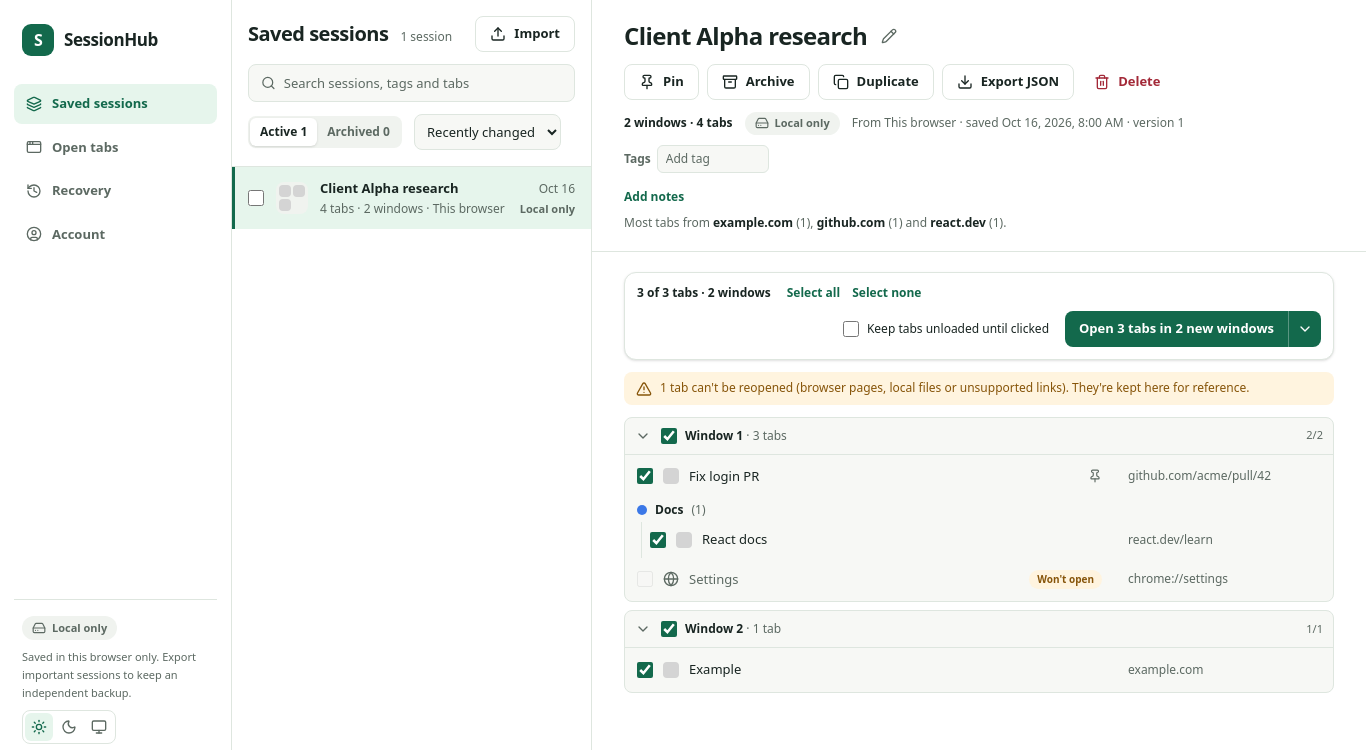
it: restore retry › reopens the last restore's summary from the inspector and retries from there
Click the button "Open 3 tabs in 2 new windows": click(1176, 329) 1065,311 -> 1288,347
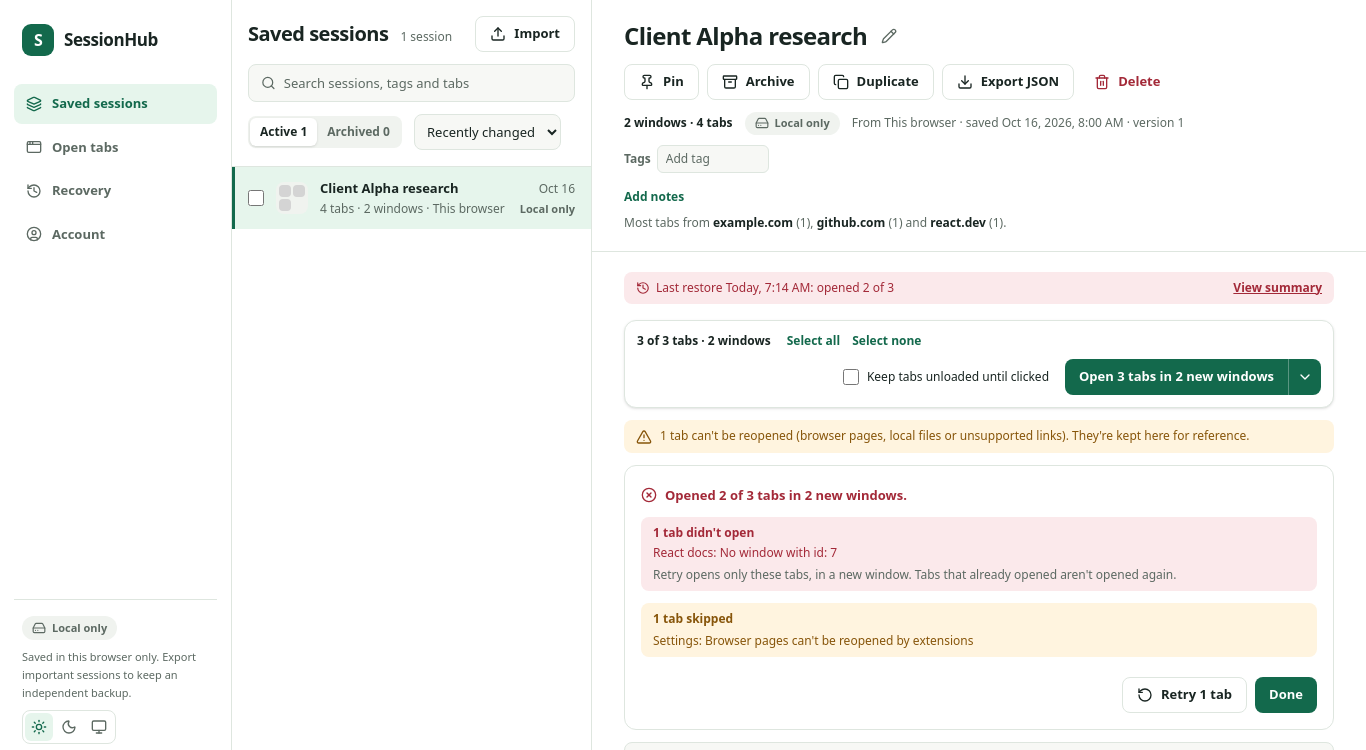
Expected: the text "Opened 2 of 3 tabs in 2 new windows." is shown, 641,486 -> 907,504
Click the button "Done": click(1286, 695) 1255,677 -> 1317,713
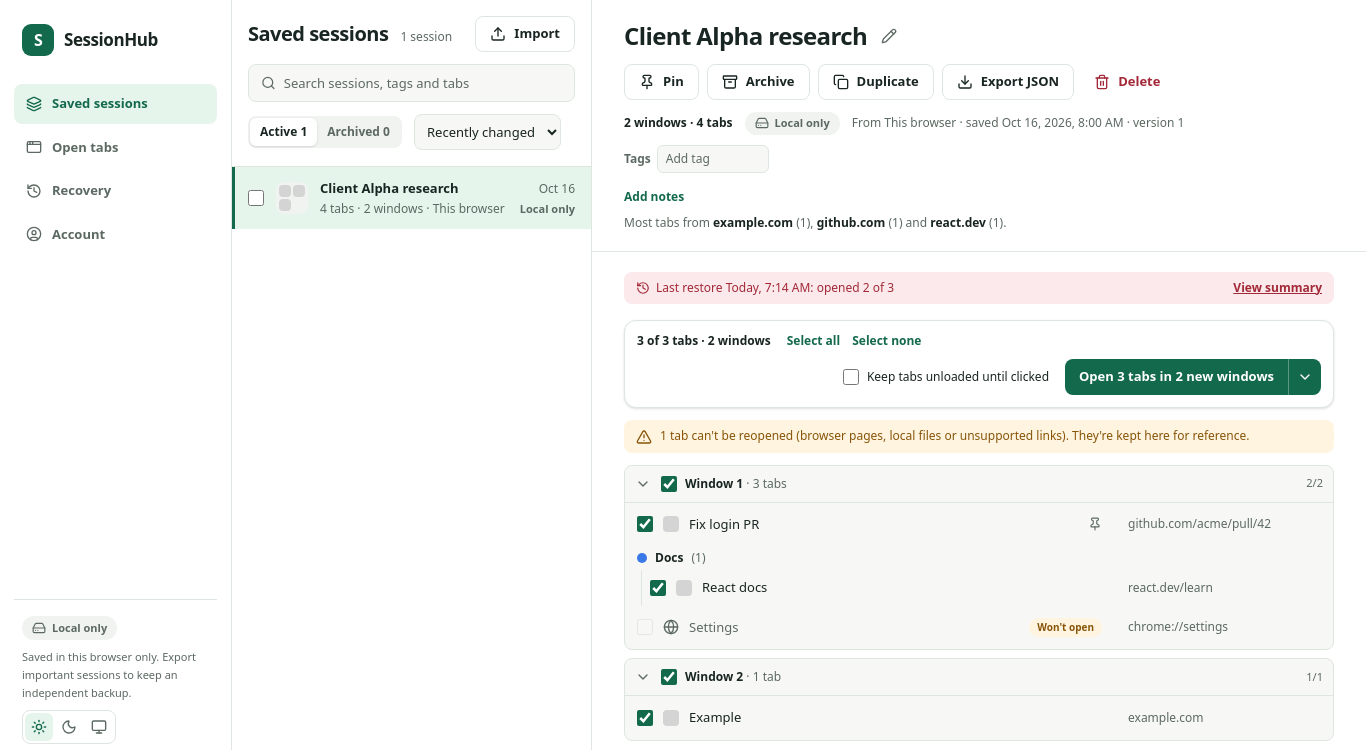
Expected: the text "Last restore Today, 7:14 AM: opened 2 of 3" is shown, 636,280 -> 894,296
Expected: the text "Opened 2 of 3 tabs" is gone
Click the button "View summary": click(1278, 288) 1233,280 -> 1322,296
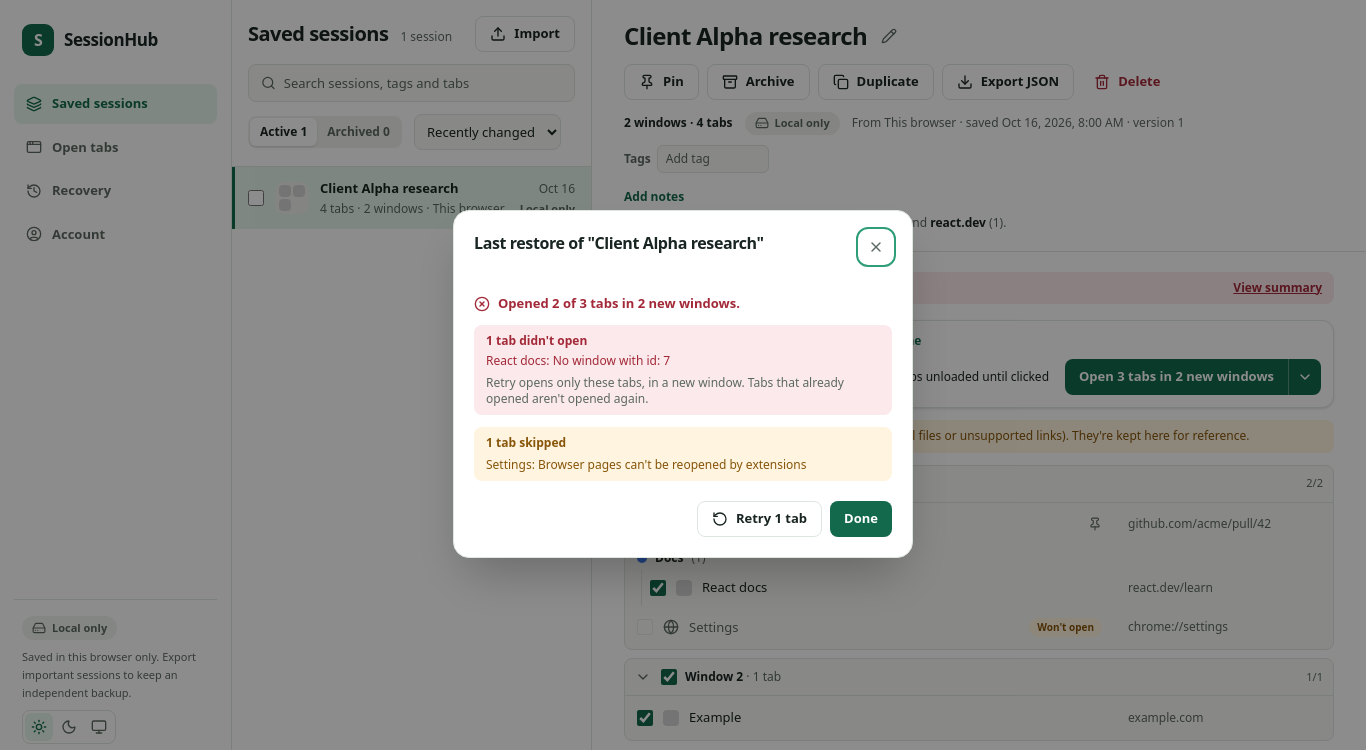
Click the button "Retry 1 tab": click(760, 519) 697,501 -> 822,537
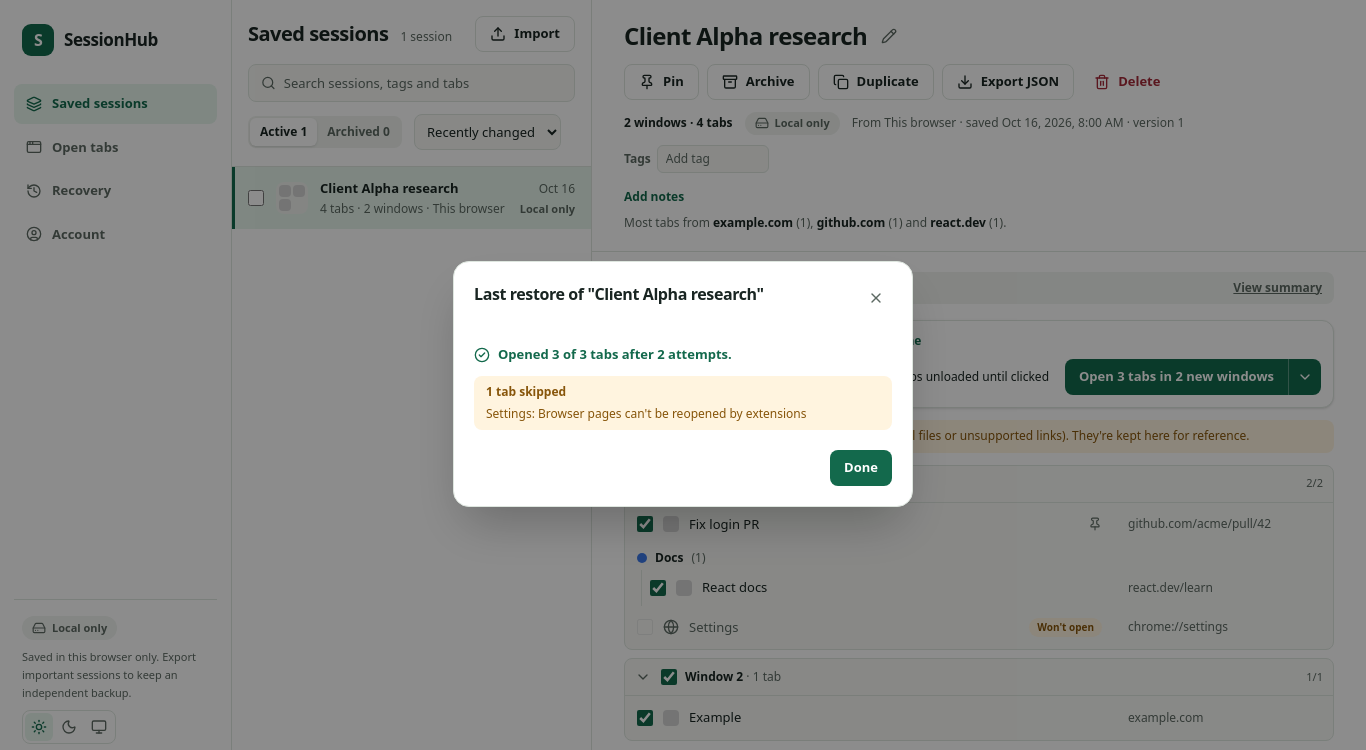
Expected: the text "Last restore Today, 7:14 AM: opened all 3" is shown, 636,280 -> 886,296
